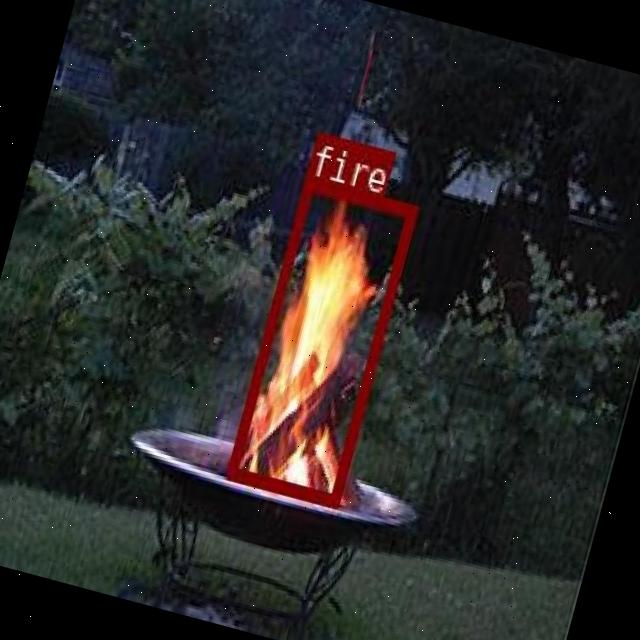fire: (226, 173, 417, 504)
